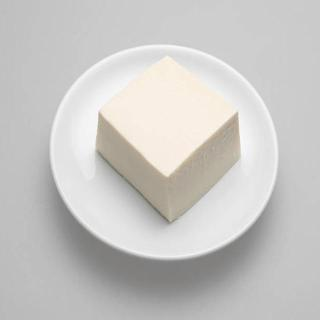Tahu: (92, 58, 245, 230)
